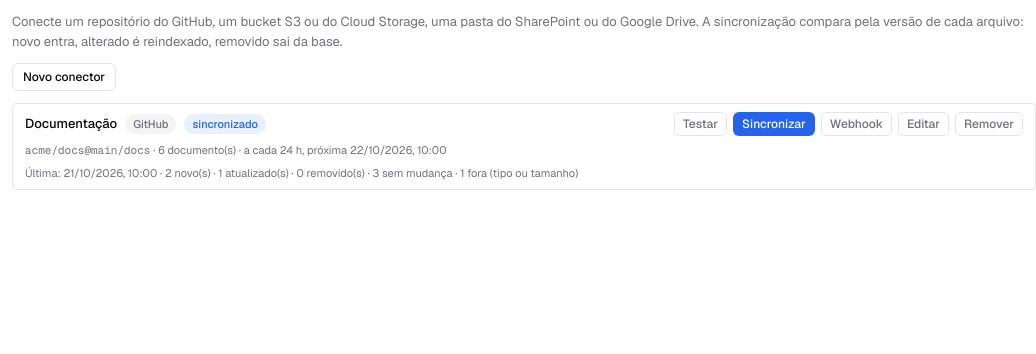
it: conectores da base › owner gera o webhook e vê o segredo uma vez
What coordinates should you click on to do the following:
click the button "Webhook"
I would click on:
 (856, 124)
Its box is [821,112,892,136].
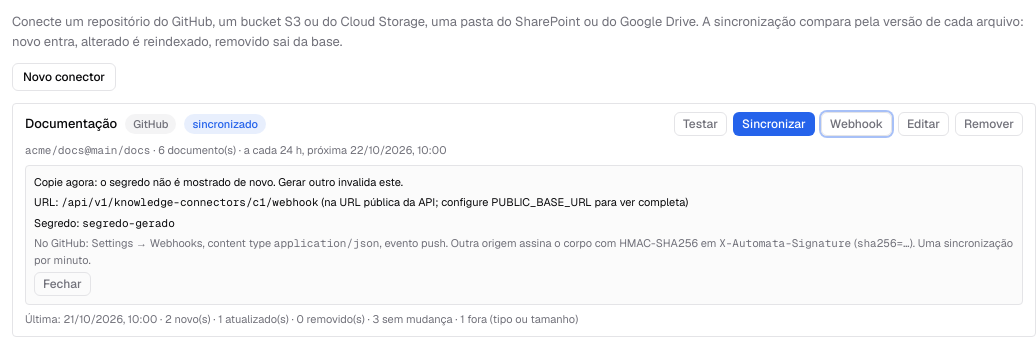
expect the message named "Webhook gerado" shows "segredo-gerado": met, box [82,216,175,230]
expect the message named "Webhook gerado" shows "/api/v1/knowledge-connectors/c1/webhook": met, box [61,195,319,209]
What coordinates should you click on to do the following:
click the button "Fechar"
I would click on:
 (62, 284)
Its box is [34,272,91,296].
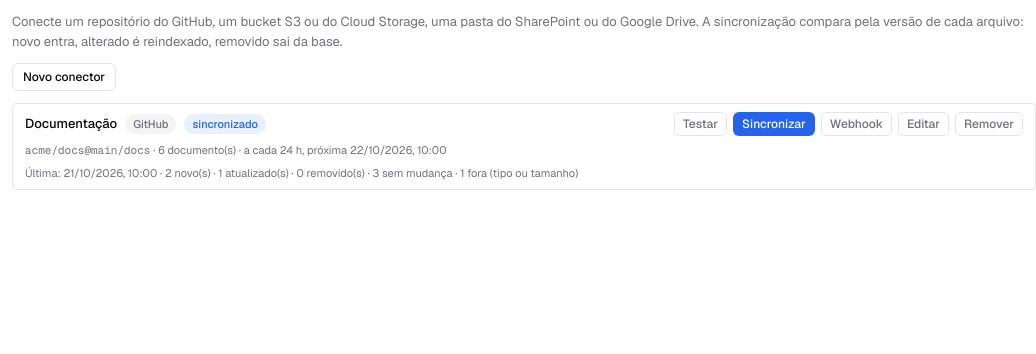
expect the text "segredo-gerado" is gone: met
